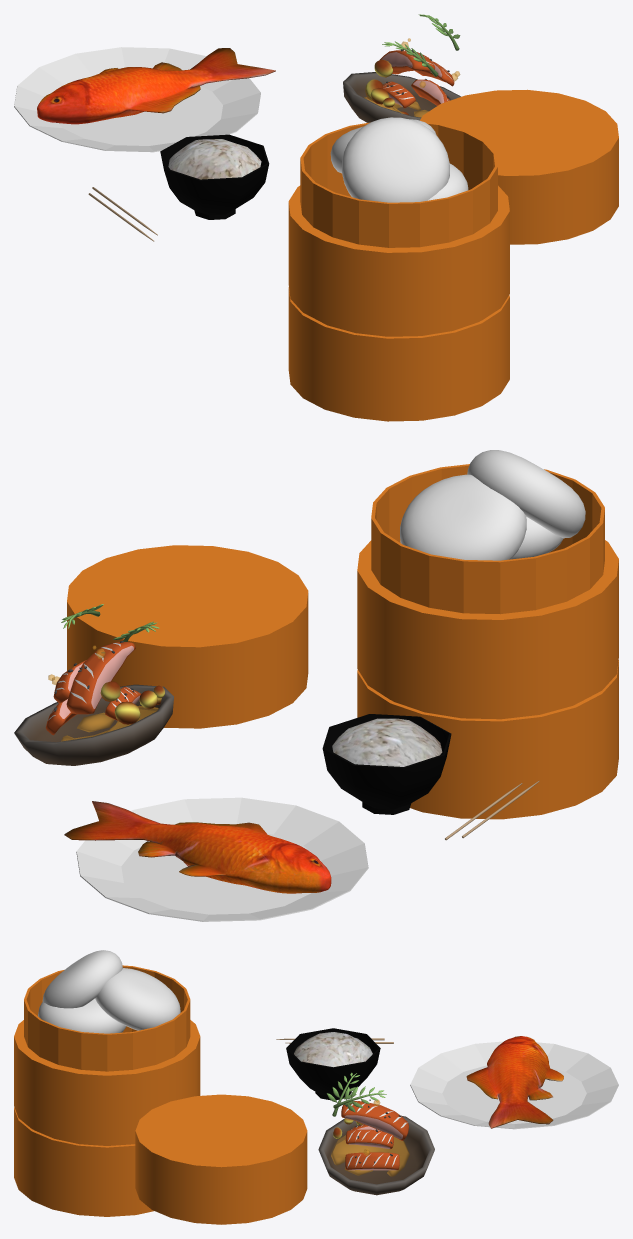
File: nianyefan1.glb
The picture shows the model from 3 angles, top to bottom: view 1: azimuth 30°, elevation 25°; view 2: azimuth 150°, elevation 25°; view 3: azimuth 270°, elevation 25°; orthographic projection. The views are drawn at different scales.
Visible parts, largest first — view 1: contaner_container1_0, cover_container1_0, Plate_0, Object_2, Sphere.002, Mesh_0.001, Mesh_2.001, Cylinder.018_FryingPan_0, Cylinder.018_Salmon_Base_0, Cylinder.018_Potato_0, Cylinder.018_Salmon_Tender_0, Cylinder.018_Herbs_0 (+2 smaller); view 2: contaner_container1_0, cover_container1_0, Plate_0, Object_2, Sphere.001, Cylinder.018_FryingPan_0, Mesh_0.001, Sphere.002, Mesh_2.001, Cylinder.018_Salmon_Base_0, Cylinder.018_Potato_0, Sphere (+2 smaller); view 3: contaner_container1_0, cover_container1_0, Plate_0, Object_2, Cylinder.018_FryingPan_0, Sphere.001, Sphere.002, Mesh_0.001, Cylinder.018_Salmon_Base_0, Mesh_2.001, Sphere, Cylinder.018_Oil_0 (+2 smaller).
Part boxes in pixels (left/top/right/bottom): contaner_container1_0: left=288, top=122, right=509, bottom=421; cover_container1_0: left=420, top=89, right=618, bottom=244; Plate_0: left=14, top=47, right=260, bottom=152; Object_2: left=37, top=48, right=275, bottom=124; Sphere.002: left=342, top=117, right=449, bottom=202; Mesh_0.001: left=160, top=134, right=269, bottom=219; Mesh_2.001: left=168, top=139, right=261, bottom=179; Cylinder.018_FryingPan_0: left=343, top=72, right=460, bottom=122; Cylinder.018_Salmon_Base_0: left=380, top=50, right=454, bottom=108; Cylinder.018_Potato_0: left=365, top=59, right=408, bottom=115; Cylinder.018_Salmon_Tender_0: left=381, top=52, right=444, bottom=106; Cylinder.018_Herbs_0: left=382, top=14, right=460, bottom=76; contaner_container1_0: left=357, top=464, right=618, bottom=819; cover_container1_0: left=67, top=545, right=308, bottom=728; Plate_0: left=76, top=797, right=368, bottom=921; Object_2: left=64, top=801, right=331, bottom=893; Sphere.001: left=400, top=474, right=526, bottom=560; Cylinder.018_FryingPan_0: left=14, top=684, right=173, bottom=765; Mesh_0.001: left=322, top=714, right=451, bottom=814; Sphere.002: left=467, top=450, right=585, bottom=538; Mesh_2.001: left=332, top=718, right=442, bottom=766; Cylinder.018_Salmon_Base_0: left=45, top=642, right=140, bottom=735; Cylinder.018_Potato_0: left=100, top=681, right=164, bottom=724; Sphere: left=511, top=517, right=563, bottom=559; contaner_container1_0: left=14, top=965, right=200, bottom=1216; cover_container1_0: left=135, top=1094, right=307, bottom=1224; Plate_0: left=410, top=1041, right=618, bottom=1129; Object_2: left=466, top=1036, right=563, bottom=1128; Cylinder.018_FryingPan_0: left=318, top=1115, right=434, bottom=1195; Sphere.001: left=95, top=968, right=180, bottom=1030; Sphere.002: left=42, top=950, right=122, bottom=1008; Mesh_0.001: left=286, top=1028, right=380, bottom=1100; Cylinder.018_Salmon_Base_0: left=341, top=1101, right=408, bottom=1169; Mesh_2.001: left=294, top=1032, right=372, bottom=1067; Sphere: left=38, top=998, right=126, bottom=1033; Cylinder.018_Oil_0: left=331, top=1099, right=409, bottom=1176.
Size of the model in its own units: 8.88 by 5.26 by 13.23.
Materials: 14 (5 with a texture image).
